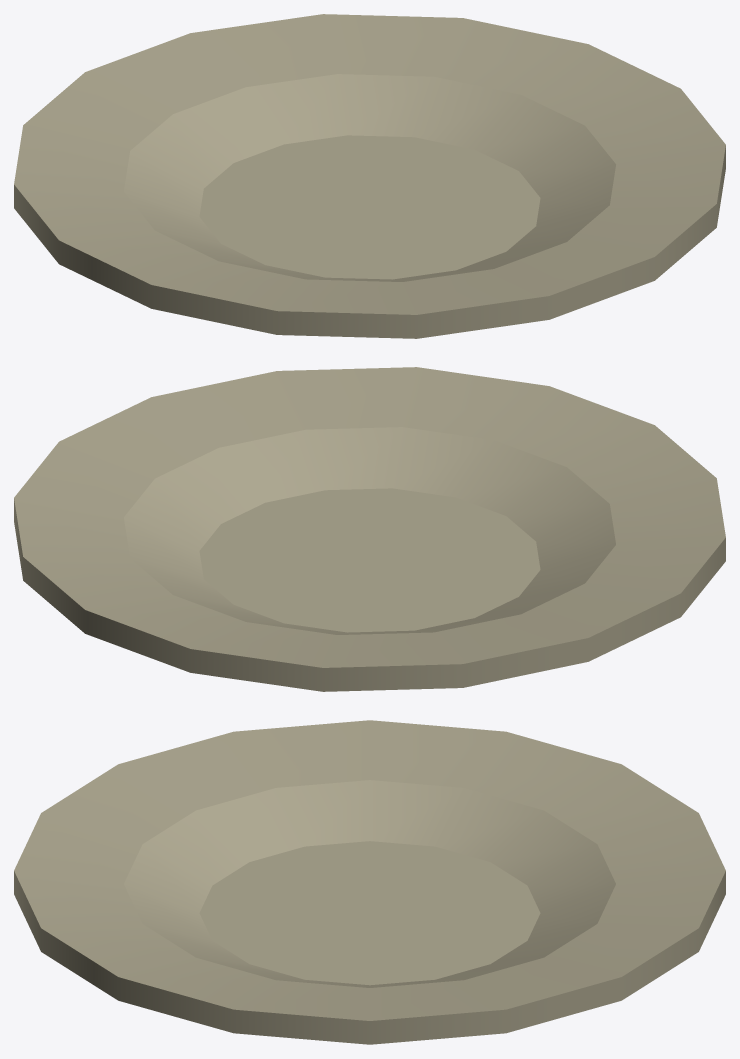
The model's file is PS_Plate03.fbx.
The picture shows the model from 3 angles, top to bottom: view 1: azimuth 30°, elevation 25°; view 2: azimuth 150°, elevation 25°; view 3: azimuth 270°, elevation 25°; orthographic projection.
Visible parts, largest first — view 1: PS_Plate03; view 2: PS_Plate03; view 3: PS_Plate03.
Part boxes in pixels (x1=…): PS_Plate03: x1=14, y1=14, x2=725, y2=338; PS_Plate03: x1=14, y1=367, x2=725, y2=691; PS_Plate03: x1=14, y1=720, x2=725, y2=1044.
Size of the model in its own units: 0.4207 by 0.0784 by 0.4207.
